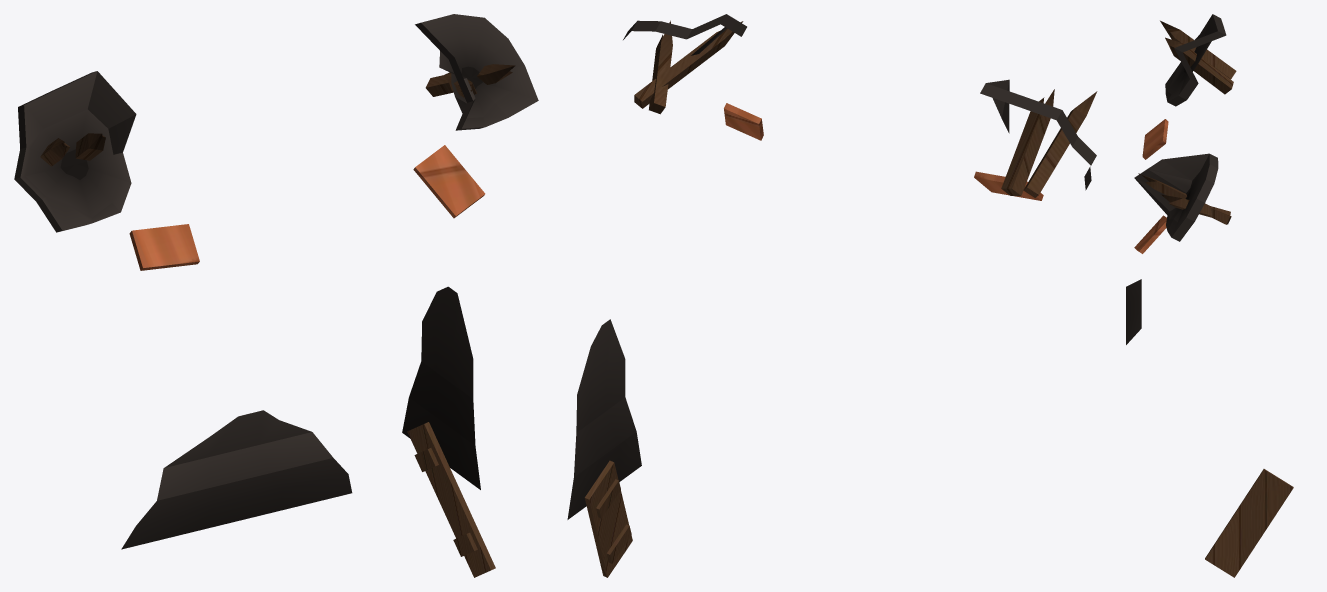
File: category.bridge.s.ruin.glb
3 renders of one model, left to right at view 1: azimuth 30°, elevation 25°; view 2: azimuth 150°, elevation 25°; view 3: azimuth 270°, elevation 25°, orthographic. The views are drawn at different scales.
Visible parts, largest first — view 1: ruin; view 2: ruin; view 3: ruin.
Boxes of the visible parts, <box> form: ruin: <box>14,14,538,577</box>; ruin: <box>567,14,1097,577</box>; ruin: <box>1126,14,1293,577</box>.
Bounding box in the file's own units: 3.09 × 3.58 × 1.45.
3 materials, 2 textured.
